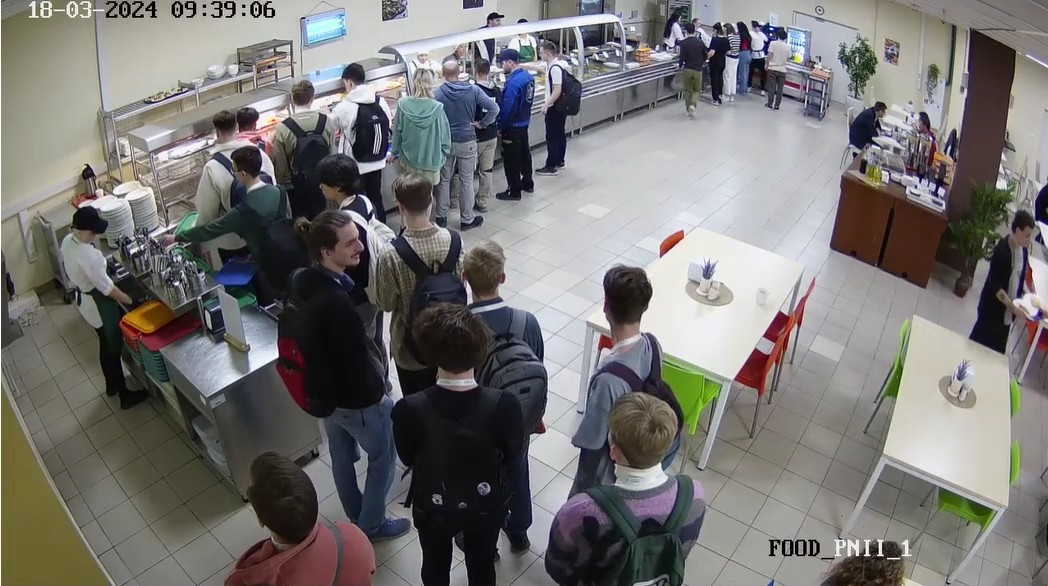Na_Kasse: (681, 30, 704, 122), (765, 36, 786, 108), (705, 21, 722, 108), (750, 23, 767, 98), (738, 21, 753, 97), (725, 20, 737, 105)
Ne_v_Ocheredi: (284, 216, 403, 535), (393, 305, 528, 586), (549, 391, 725, 586), (571, 261, 678, 487), (225, 449, 387, 586), (380, 166, 473, 387), (447, 242, 537, 444), (309, 160, 401, 302), (977, 213, 1035, 364), (812, 521, 924, 586)
Personal: (52, 201, 145, 420), (477, 14, 503, 53), (510, 16, 535, 55), (661, 7, 682, 46), (414, 43, 433, 66), (449, 37, 466, 60), (689, 10, 703, 28)
Vybiraet: (209, 152, 292, 301), (190, 103, 267, 260), (272, 77, 333, 205), (437, 60, 481, 220), (535, 43, 581, 174), (401, 60, 447, 184), (468, 59, 504, 214), (333, 64, 390, 155), (497, 47, 532, 193), (237, 112, 264, 142)
Za_Stolom: (843, 101, 882, 166), (1031, 172, 1048, 219), (914, 113, 933, 145)
